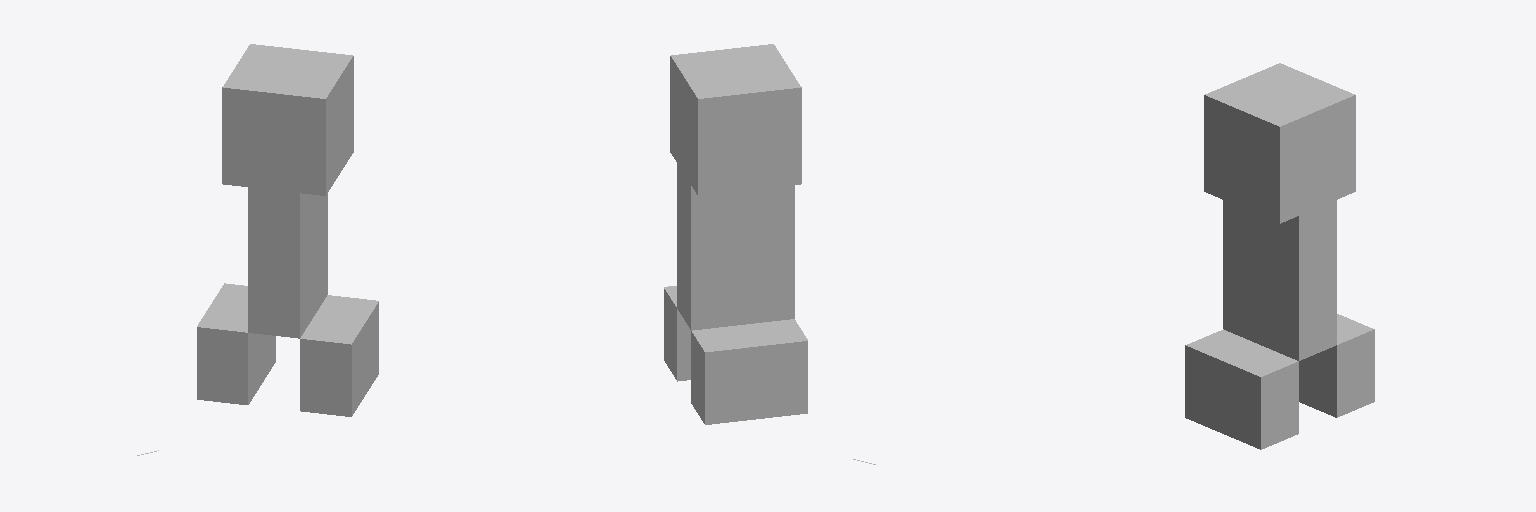
Rendered from creeperaaa_1.obj.
3 renders of one model, left to right at view 1: azimuth 30°, elevation 25°; view 2: azimuth 150°, elevation 25°; view 3: azimuth 270°, elevation 25°, orthographic.
Visible parts, largest first — view 1: creeper_d1; view 2: creeper_d1; view 3: creeper_d1.
Boxes of the visible parts, x1=… form: creeper_d1: x1=197, y1=44, x2=378, y2=416; creeper_d1: x1=664, y1=44, x2=807, y2=424; creeper_d1: x1=1185, y1=63, x2=1374, y2=449.
Size of the model in its own units: 19.67 by 29.16 by 14.14.